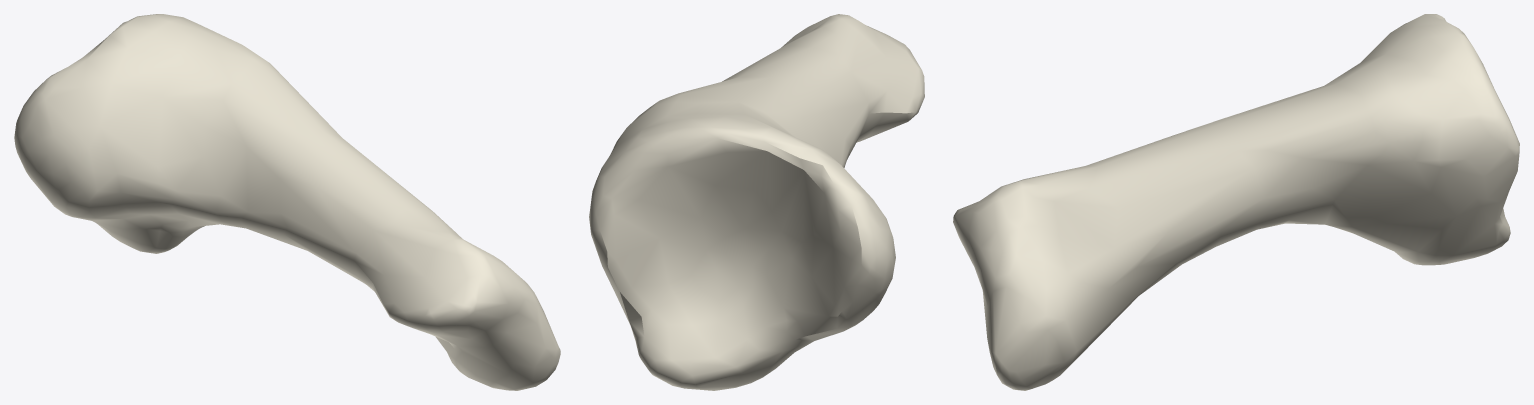
The model's file is fma32639.glb.
3 renders of one model, left to right at view 1: azimuth 30°, elevation 25°; view 2: azimuth 150°, elevation 25°; view 3: azimuth 270°, elevation 25°, orthographic. The views are drawn at different scales.
Parts seen in each view (by area): view 1: FMA32639; view 2: FMA32639; view 3: FMA32639.
Part boxes in pixels (<box>): FMA32639: <box>14,14,560,390</box>; FMA32639: <box>589,14,924,390</box>; FMA32639: <box>953,14,1519,390</box>.
Bounding box in the file's own units: 0.0177 × 0.0132 × 0.0252.
